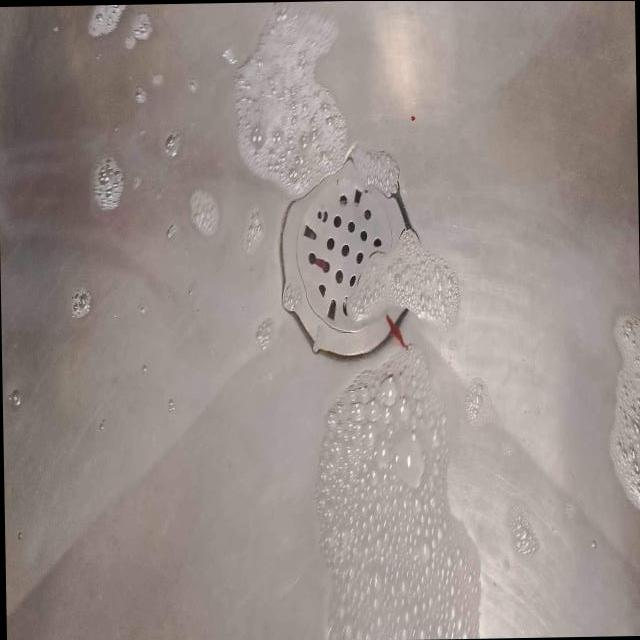General: (6, 3, 636, 636), (228, 4, 484, 636)
Pathological: (276, 142, 460, 357)
Sharps: (230, 2, 428, 356), (382, 307, 414, 351)
